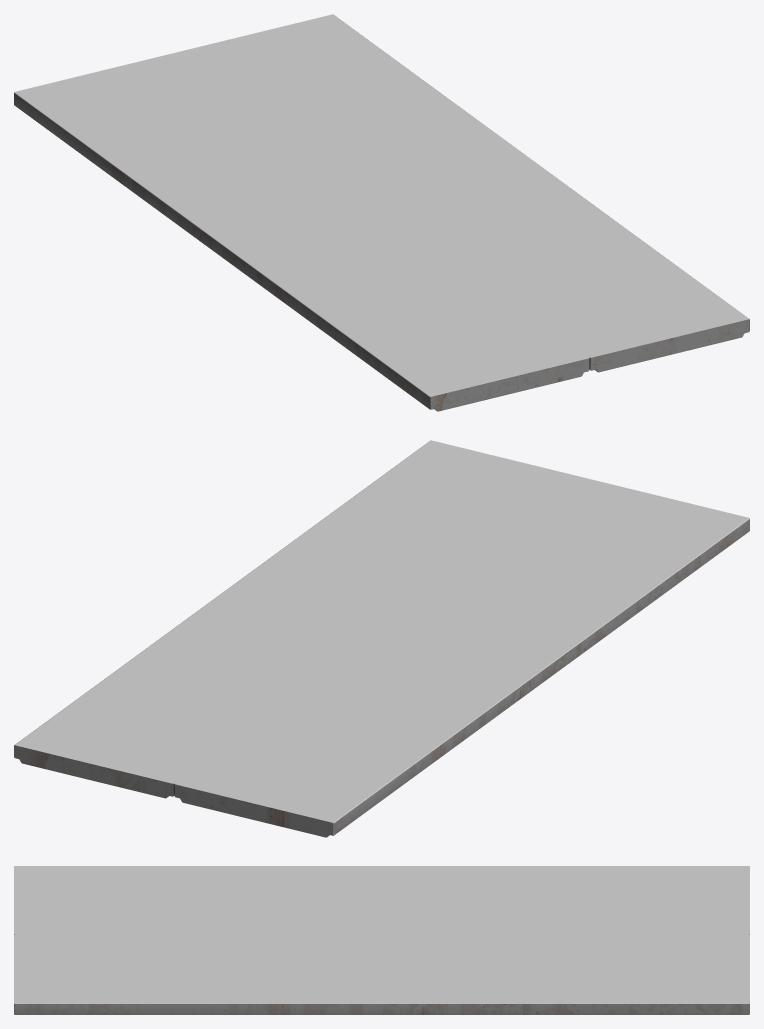
Rendered from SM_Roof01.fbx.
The picture shows the model from 3 angles, top to bottom: view 1: azimuth 30°, elevation 25°; view 2: azimuth 150°, elevation 25°; view 3: azimuth 270°, elevation 25°; orthographic projection. The views are drawn at different scales.
Visible parts, largest first — view 1: SM_Roof01_LOD0; view 2: SM_Roof01_LOD0; view 3: SM_Roof01_LOD0.
Part boxes in pixels (left/top/right/bottom): SM_Roof01_LOD0: left=14, top=14, right=749, bottom=411; SM_Roof01_LOD0: left=14, top=440, right=749, bottom=837; SM_Roof01_LOD0: left=14, top=866, right=749, bottom=1014.
Size of the model in its own units: 350 by 790 by 17.62.
Materials: 2 (1 with a texture image).
